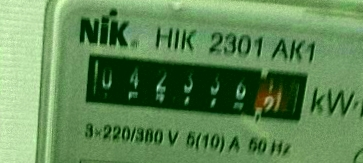0: (99, 62, 113, 91)
2: (151, 65, 170, 93)
3: (178, 66, 195, 95), (207, 67, 222, 96)
4: (125, 64, 142, 91)
6: (232, 74, 248, 101)
screen: (74, 44, 315, 131)
